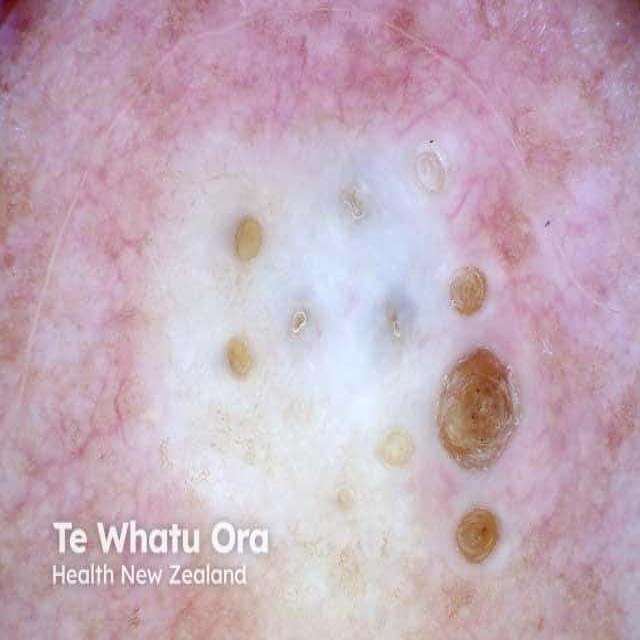blackhead: (438, 348, 520, 472), (456, 509, 498, 565), (451, 268, 488, 318), (378, 429, 413, 469), (226, 340, 254, 380), (236, 217, 261, 261), (416, 150, 443, 188), (342, 188, 362, 217), (388, 308, 402, 344), (337, 488, 357, 512), (291, 309, 308, 337)
